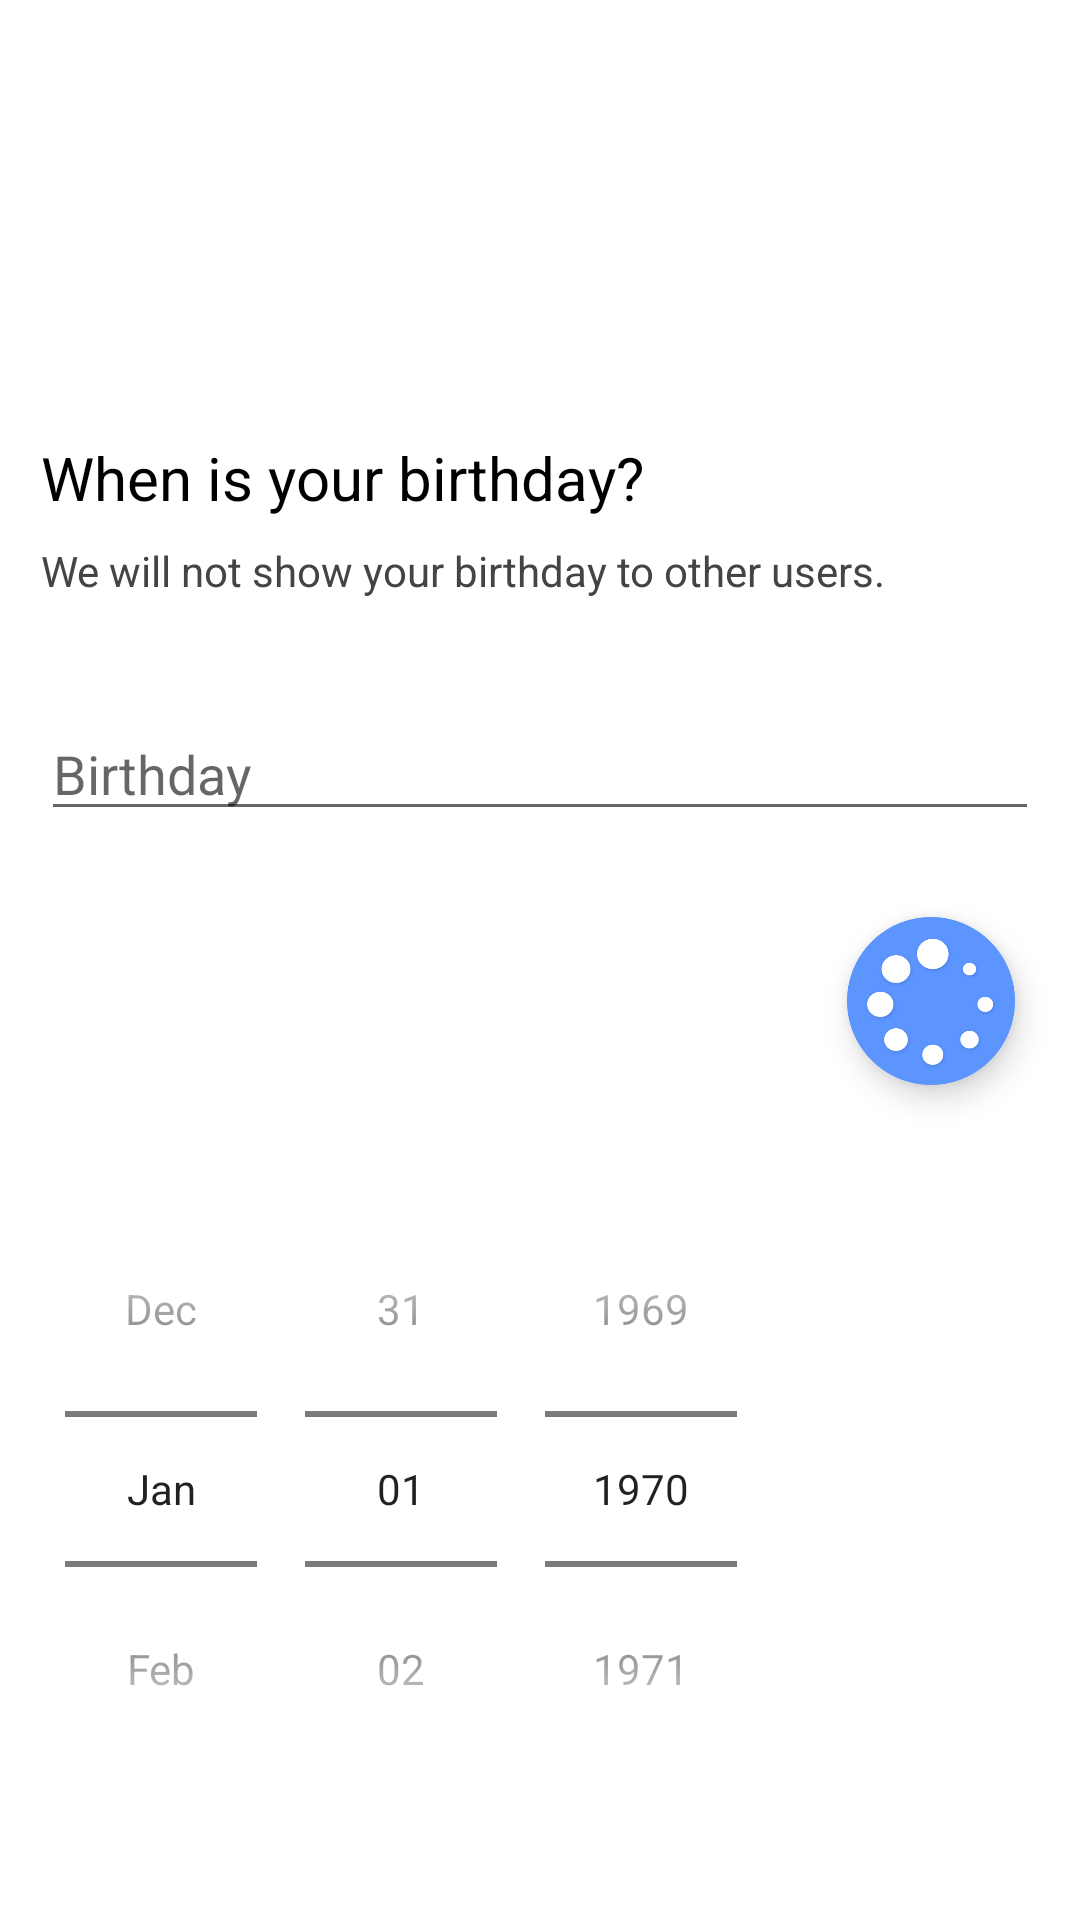

Where to tap for icons on this 1080*1920 app screen, as (x=x, y=y):
next step loader: (x=931, y=1001)
